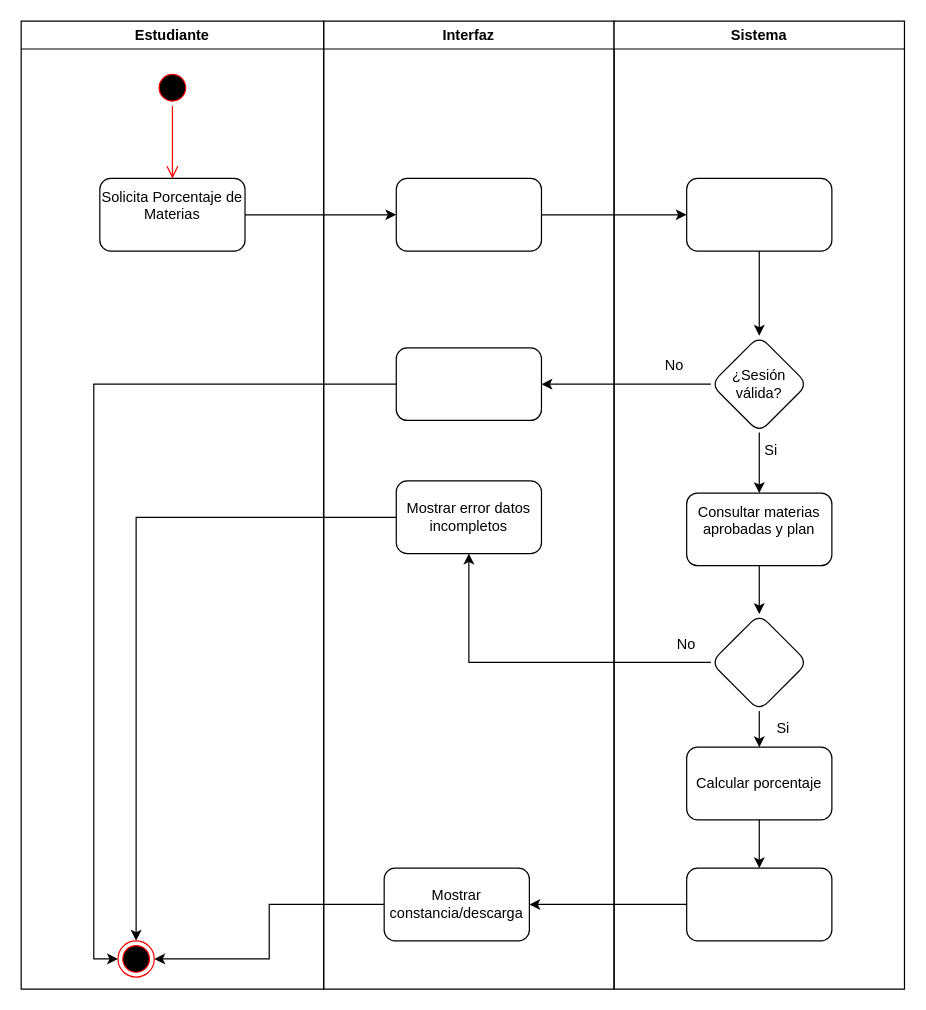
The diagram is 926 pixels wide and 1010 high, and some of its shapes have lost their labels. Each missing label, with the centre of its shape:
Enviar solicitud: pixel 468 214
Mostrar error: pixel 468 383
Registrar solicitud: pixel 758 904
Verifica sesión: pixel 758 214
¿Registros completos?: pixel 759 662
